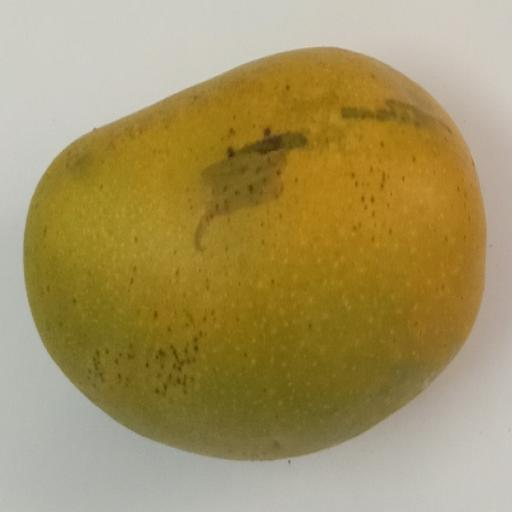mango-ripe: (28, 28, 505, 497)
